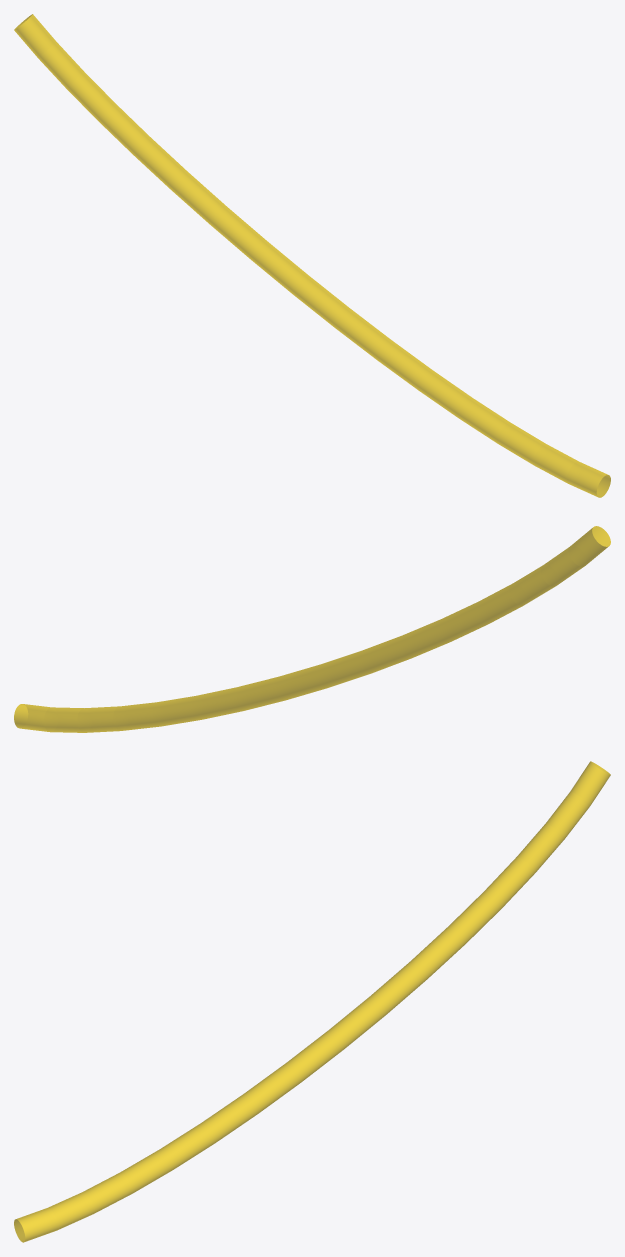
File: Event_40932208_track_48.fbx
The picture shows the model from 3 angles, top to bottom: view 1: azimuth 30°, elevation 25°; view 2: azimuth 210°, elevation 25°; view 3: azimuth 270°, elevation 25°; orthographic projection.
Visible parts, largest first — view 1: Model; view 2: Model; view 3: Model.
Part boxes in pixels (x1=…): Model: x1=14, y1=14, x2=610, y2=497; Model: x1=14, y1=526, x2=610, y2=732; Model: x1=14, y1=761, x2=610, y2=1242.
Bounding box in the file's own units: 0.5745 × 0.6058 × 0.9626.
